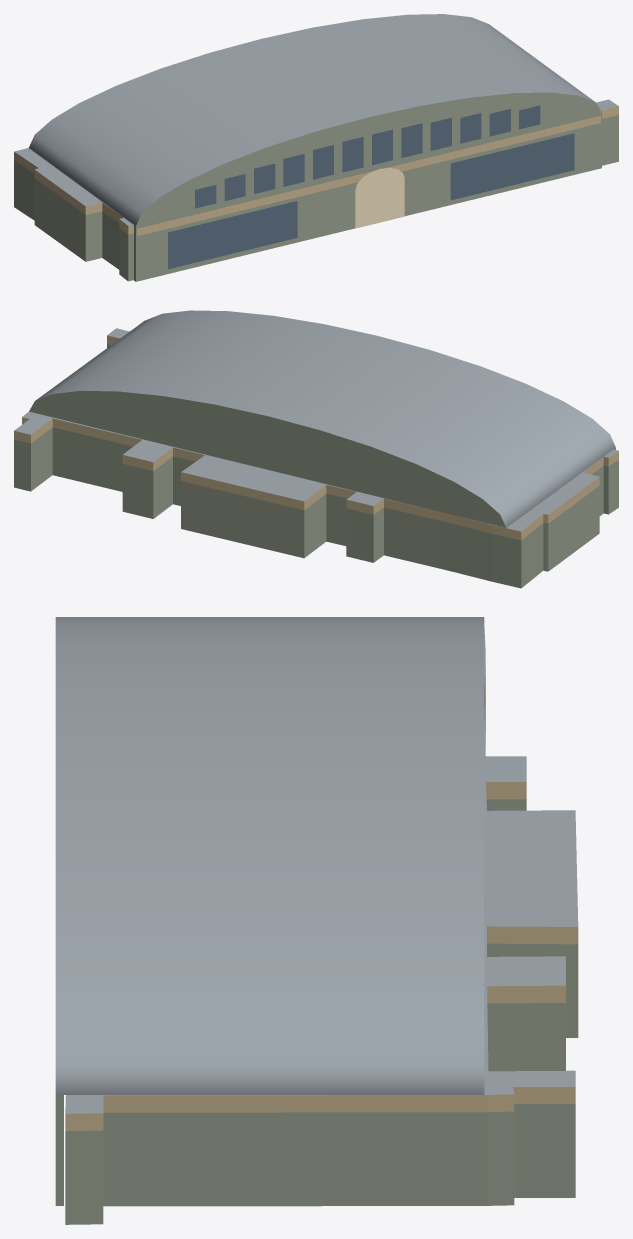
Rendered from dlr-soarin.glb.
The picture shows the model from 3 angles, top to bottom: view 1: azimuth 30°, elevation 25°; view 2: azimuth 150°, elevation 25°; view 3: azimuth 270°, elevation 25°; orthographic projection. The views are drawn at different scales.
Parts seen in each view (by area): view 1: Soarin' Around the World; view 2: Soarin' Around the World; view 3: Soarin' Around the World.
Boxes of the visible parts, box(x1,y1,x2,y2) form: Soarin' Around the World: box(14, 14, 618, 281); Soarin' Around the World: box(14, 310, 618, 588); Soarin' Around the World: box(55, 617, 578, 1224).
Size of the model in its own units: 85.4 by 17.5 by 38.48.
